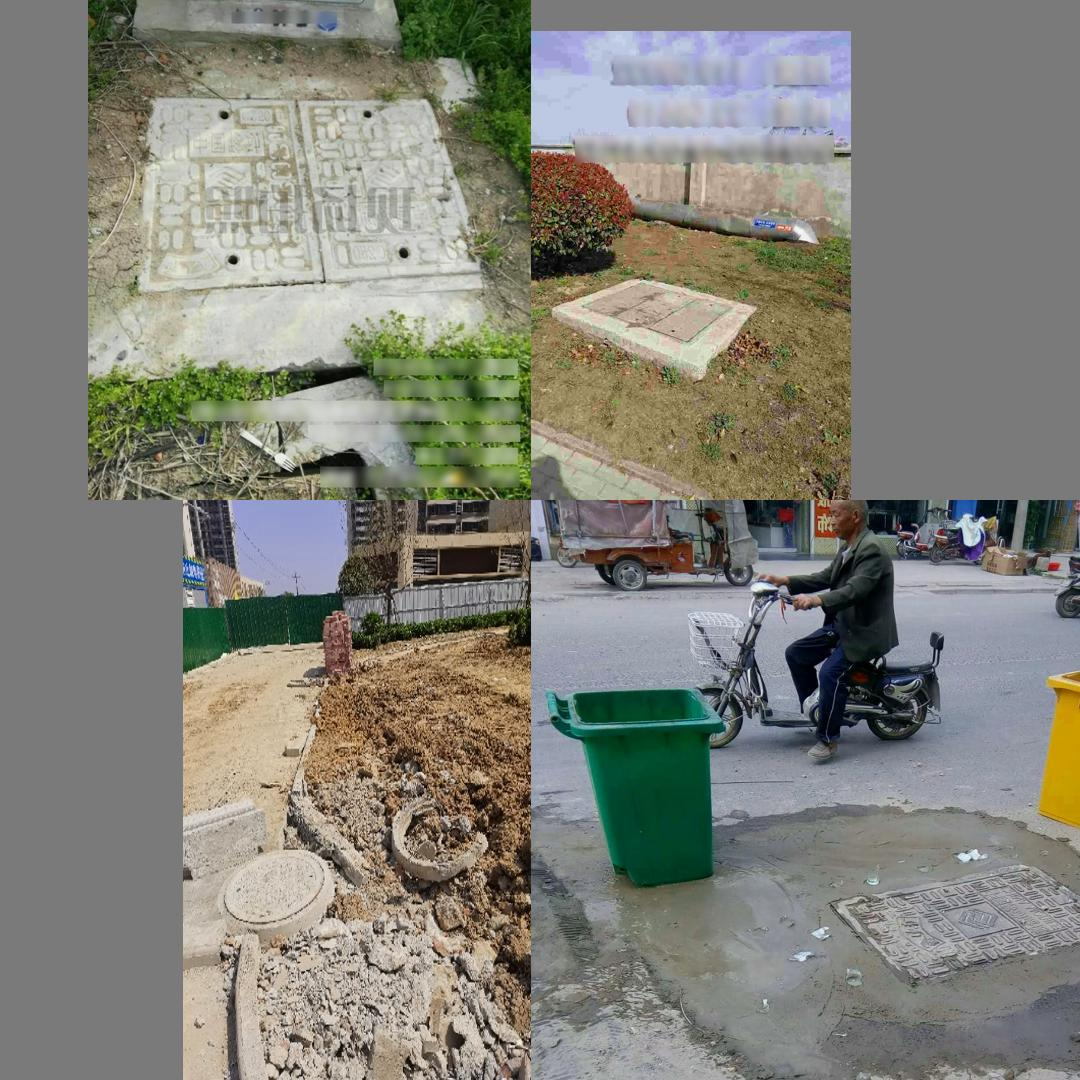good: (137, 95, 487, 298), (828, 864, 1080, 983), (579, 281, 734, 345), (217, 848, 330, 926)
